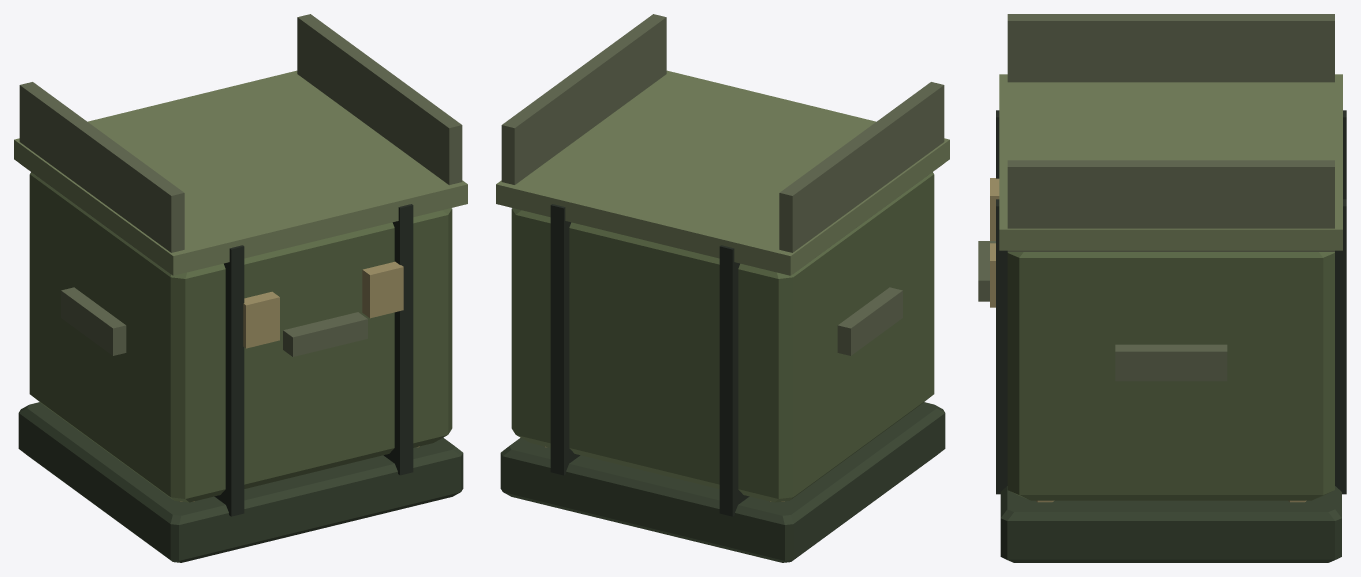
File: cargo_rack.obj
3 views of the same model, side by side, from view 1: azimuth 30°, elevation 25°; view 2: azimuth 150°, elevation 25°; view 3: azimuth 270°, elevation 25° (orthographic). The views are drawn at different scales.
Visible parts, largest first — view 1: BASE.003; view 2: BASE.003; view 3: BASE.003.
Part boxes in pixels (x1,y1,x2,y2): BASE.003: (14, 14, 467, 562); BASE.003: (496, 14, 949, 562); BASE.003: (978, 14, 1346, 562).
Size of the model in its own units: 0.82 by 0.94 by 0.7875.
1 material, 1 textured.
